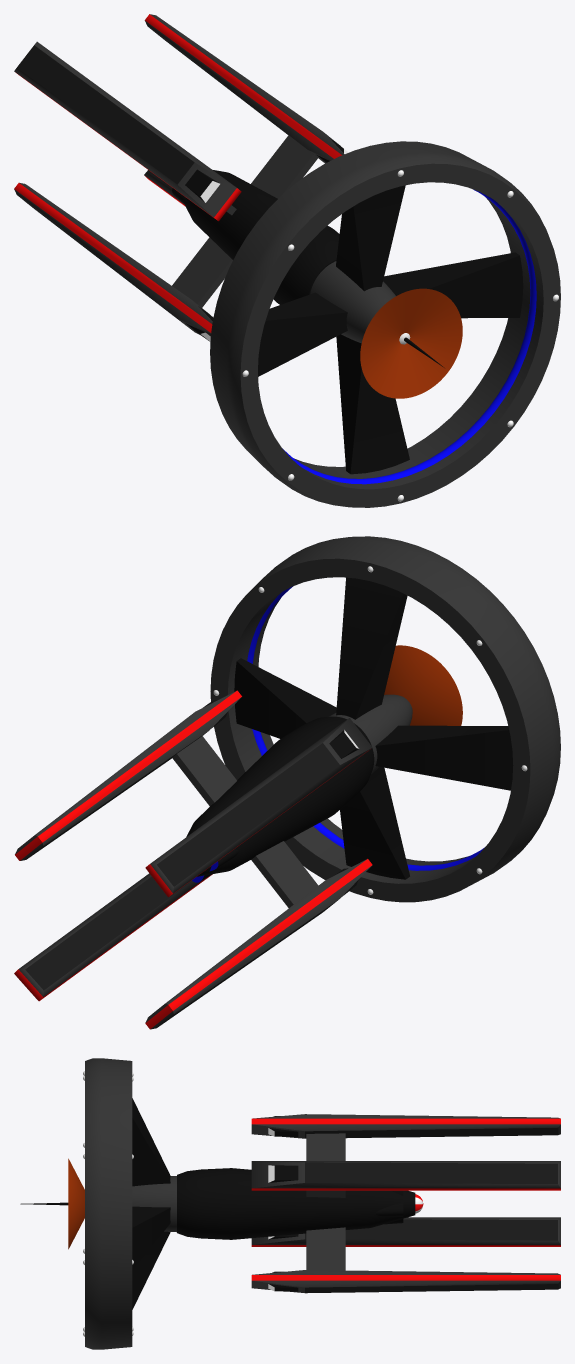
File: OcProbe.FBX
3 views of the same model, one above another, from view 1: azimuth 30°, elevation 25°; view 2: azimuth 150°, elevation 25°; view 3: azimuth 270°, elevation 25° (orthographic). The views are drawn at different scales.
Parts seen in each view (by area): view 1: Engine, OcProbe, Hull; view 2: Hull, Engine, OcProbe; view 3: Hull, Engine, OcProbe.
Part boxes in pixels (x1,y1,x2,y2): Engine: [210, 141, 560, 507]; OcProbe: [258, 185, 523, 474]; Hull: [14, 14, 348, 341]; Hull: [14, 690, 374, 1029]; Engine: [210, 536, 560, 902]; OcProbe: [234, 577, 513, 879]; Hull: [177, 1114, 560, 1293]; Engine: [83, 1058, 133, 1349]; OcProbe: [20, 1098, 176, 1309].
Bounding box in the file's own units: 2 × 2 × 3.75.
